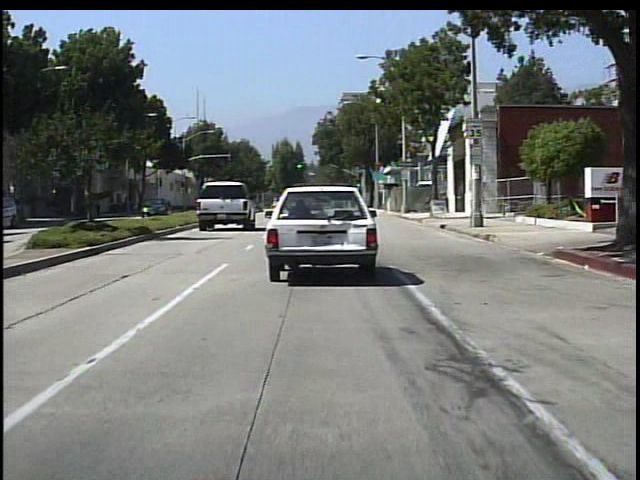person: (92, 195, 109, 221), (145, 194, 146, 216)
